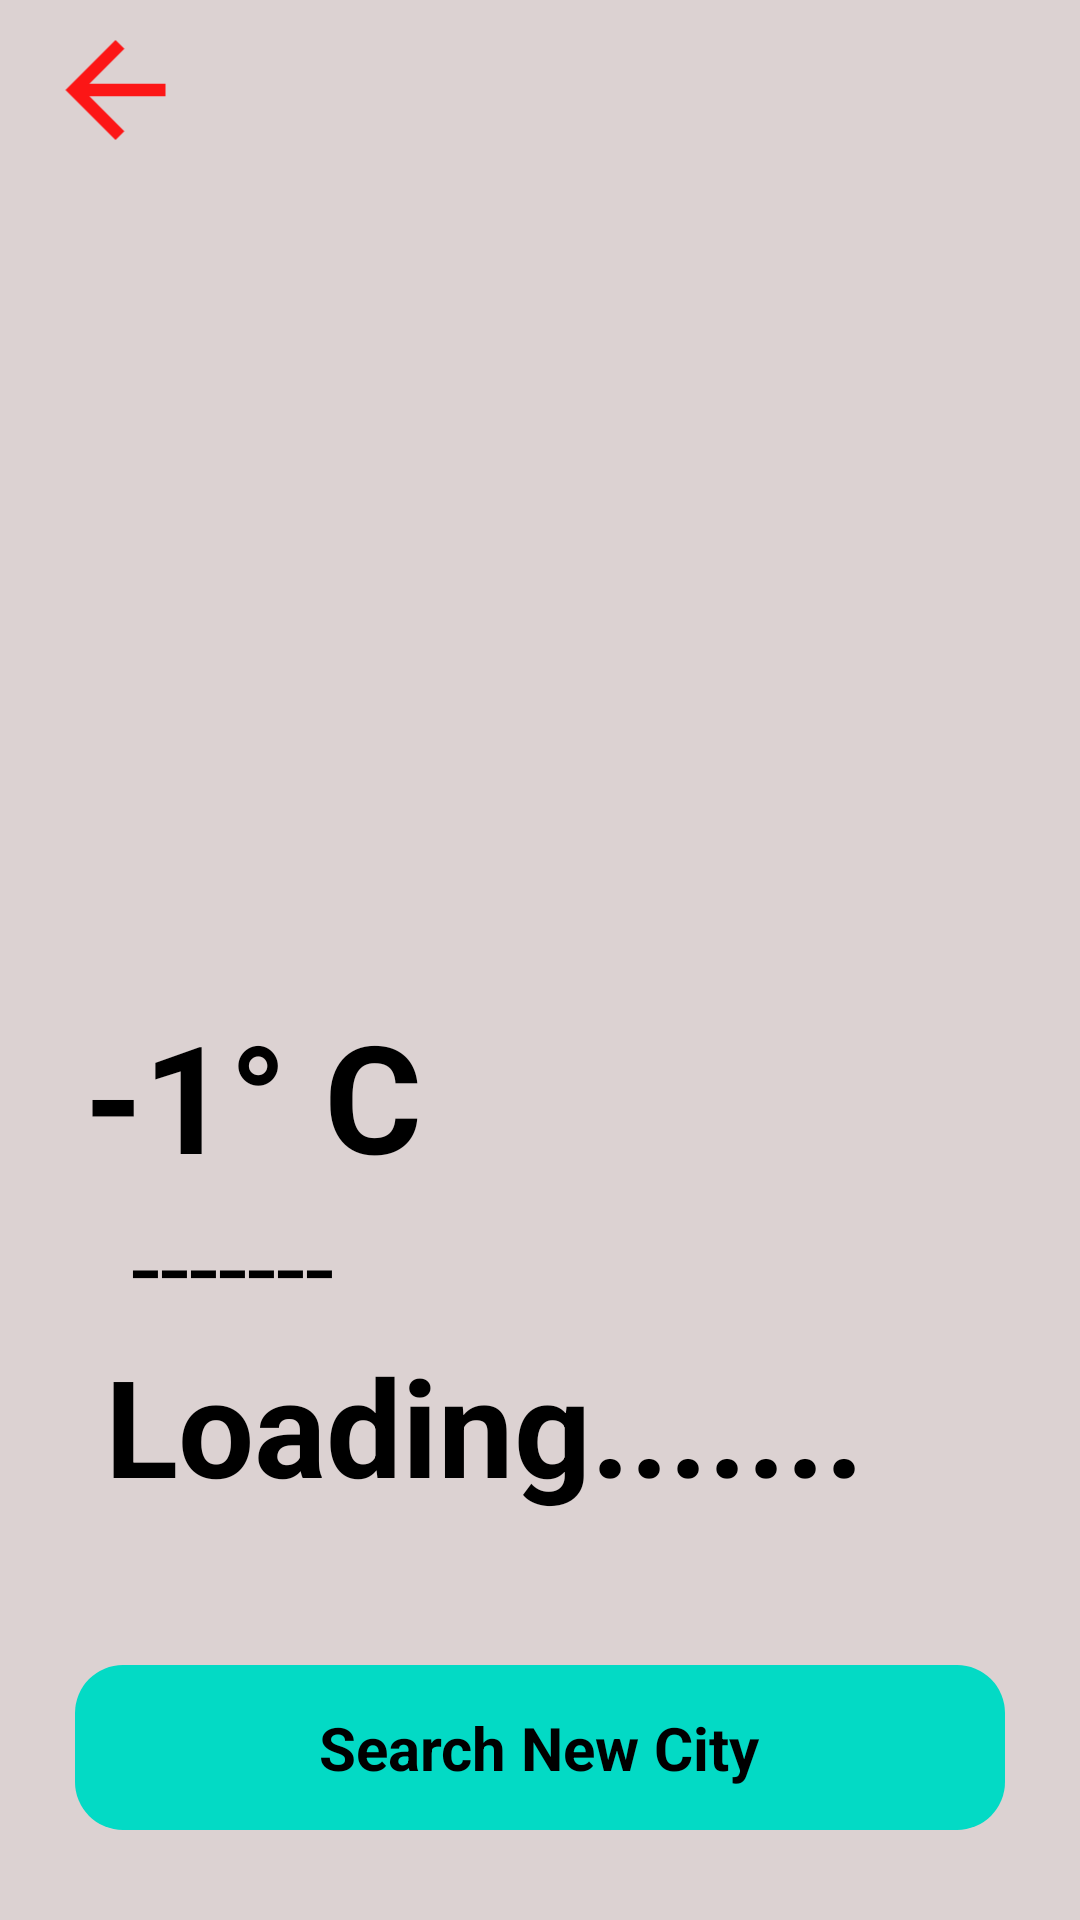

Screen size 1080px x 1920px. Icon name, then its center in pixels as (x,y):
back: (115,90)
